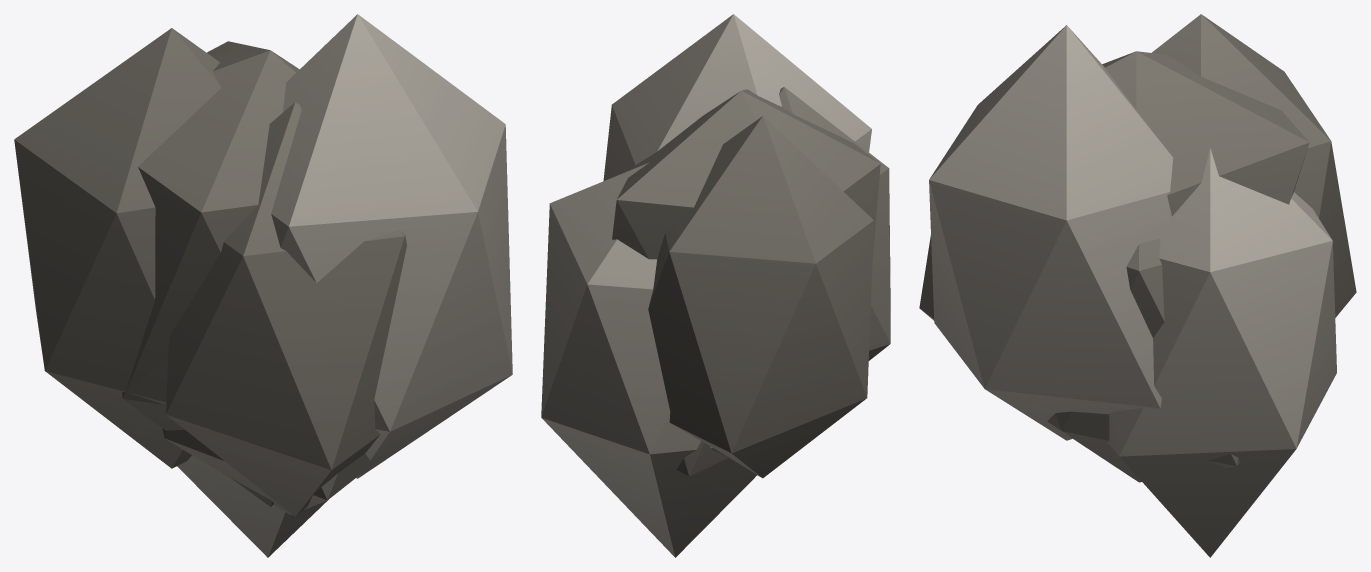
File: mountain_1.glb
3 renders of one model, left to right at view 1: azimuth 30°, elevation 25°; view 2: azimuth 150°, elevation 25°; view 3: azimuth 270°, elevation 25°, orthographic. The views are drawn at different scales.
Parts seen in each view (by area): view 1: mountain_1; view 2: mountain_1; view 3: mountain_1.
Part boxes in pixels (x1,y1,x2,y2): mountain_1: (14,14,512,557); mountain_1: (541,14,890,557); mountain_1: (919,14,1356,557).
Size of the model in its own units: 0.9668 by 1.44 by 1.06.
1 material, 1 textured.
